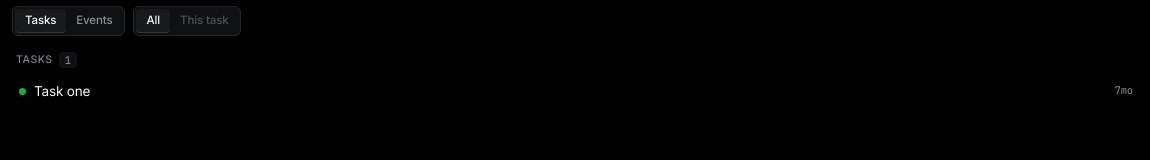
Test: SearchResultsPanel › Events 토글을 누르면 이벤트 섹션만 조회하고 보여준다
Click the button "Events" at (94, 21), box top-left (66, 9), bottom-right (122, 33)
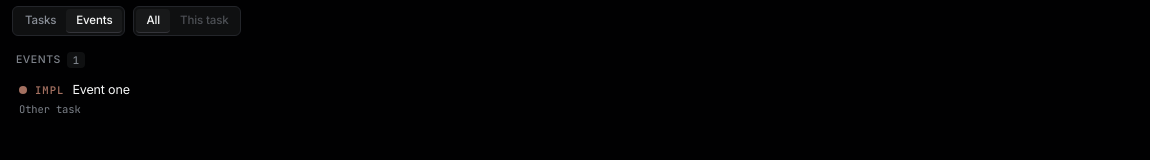
Now the text "Event one" is shown, box top-left (72, 82), bottom-right (130, 97)
Now the link "Task one" is gone
